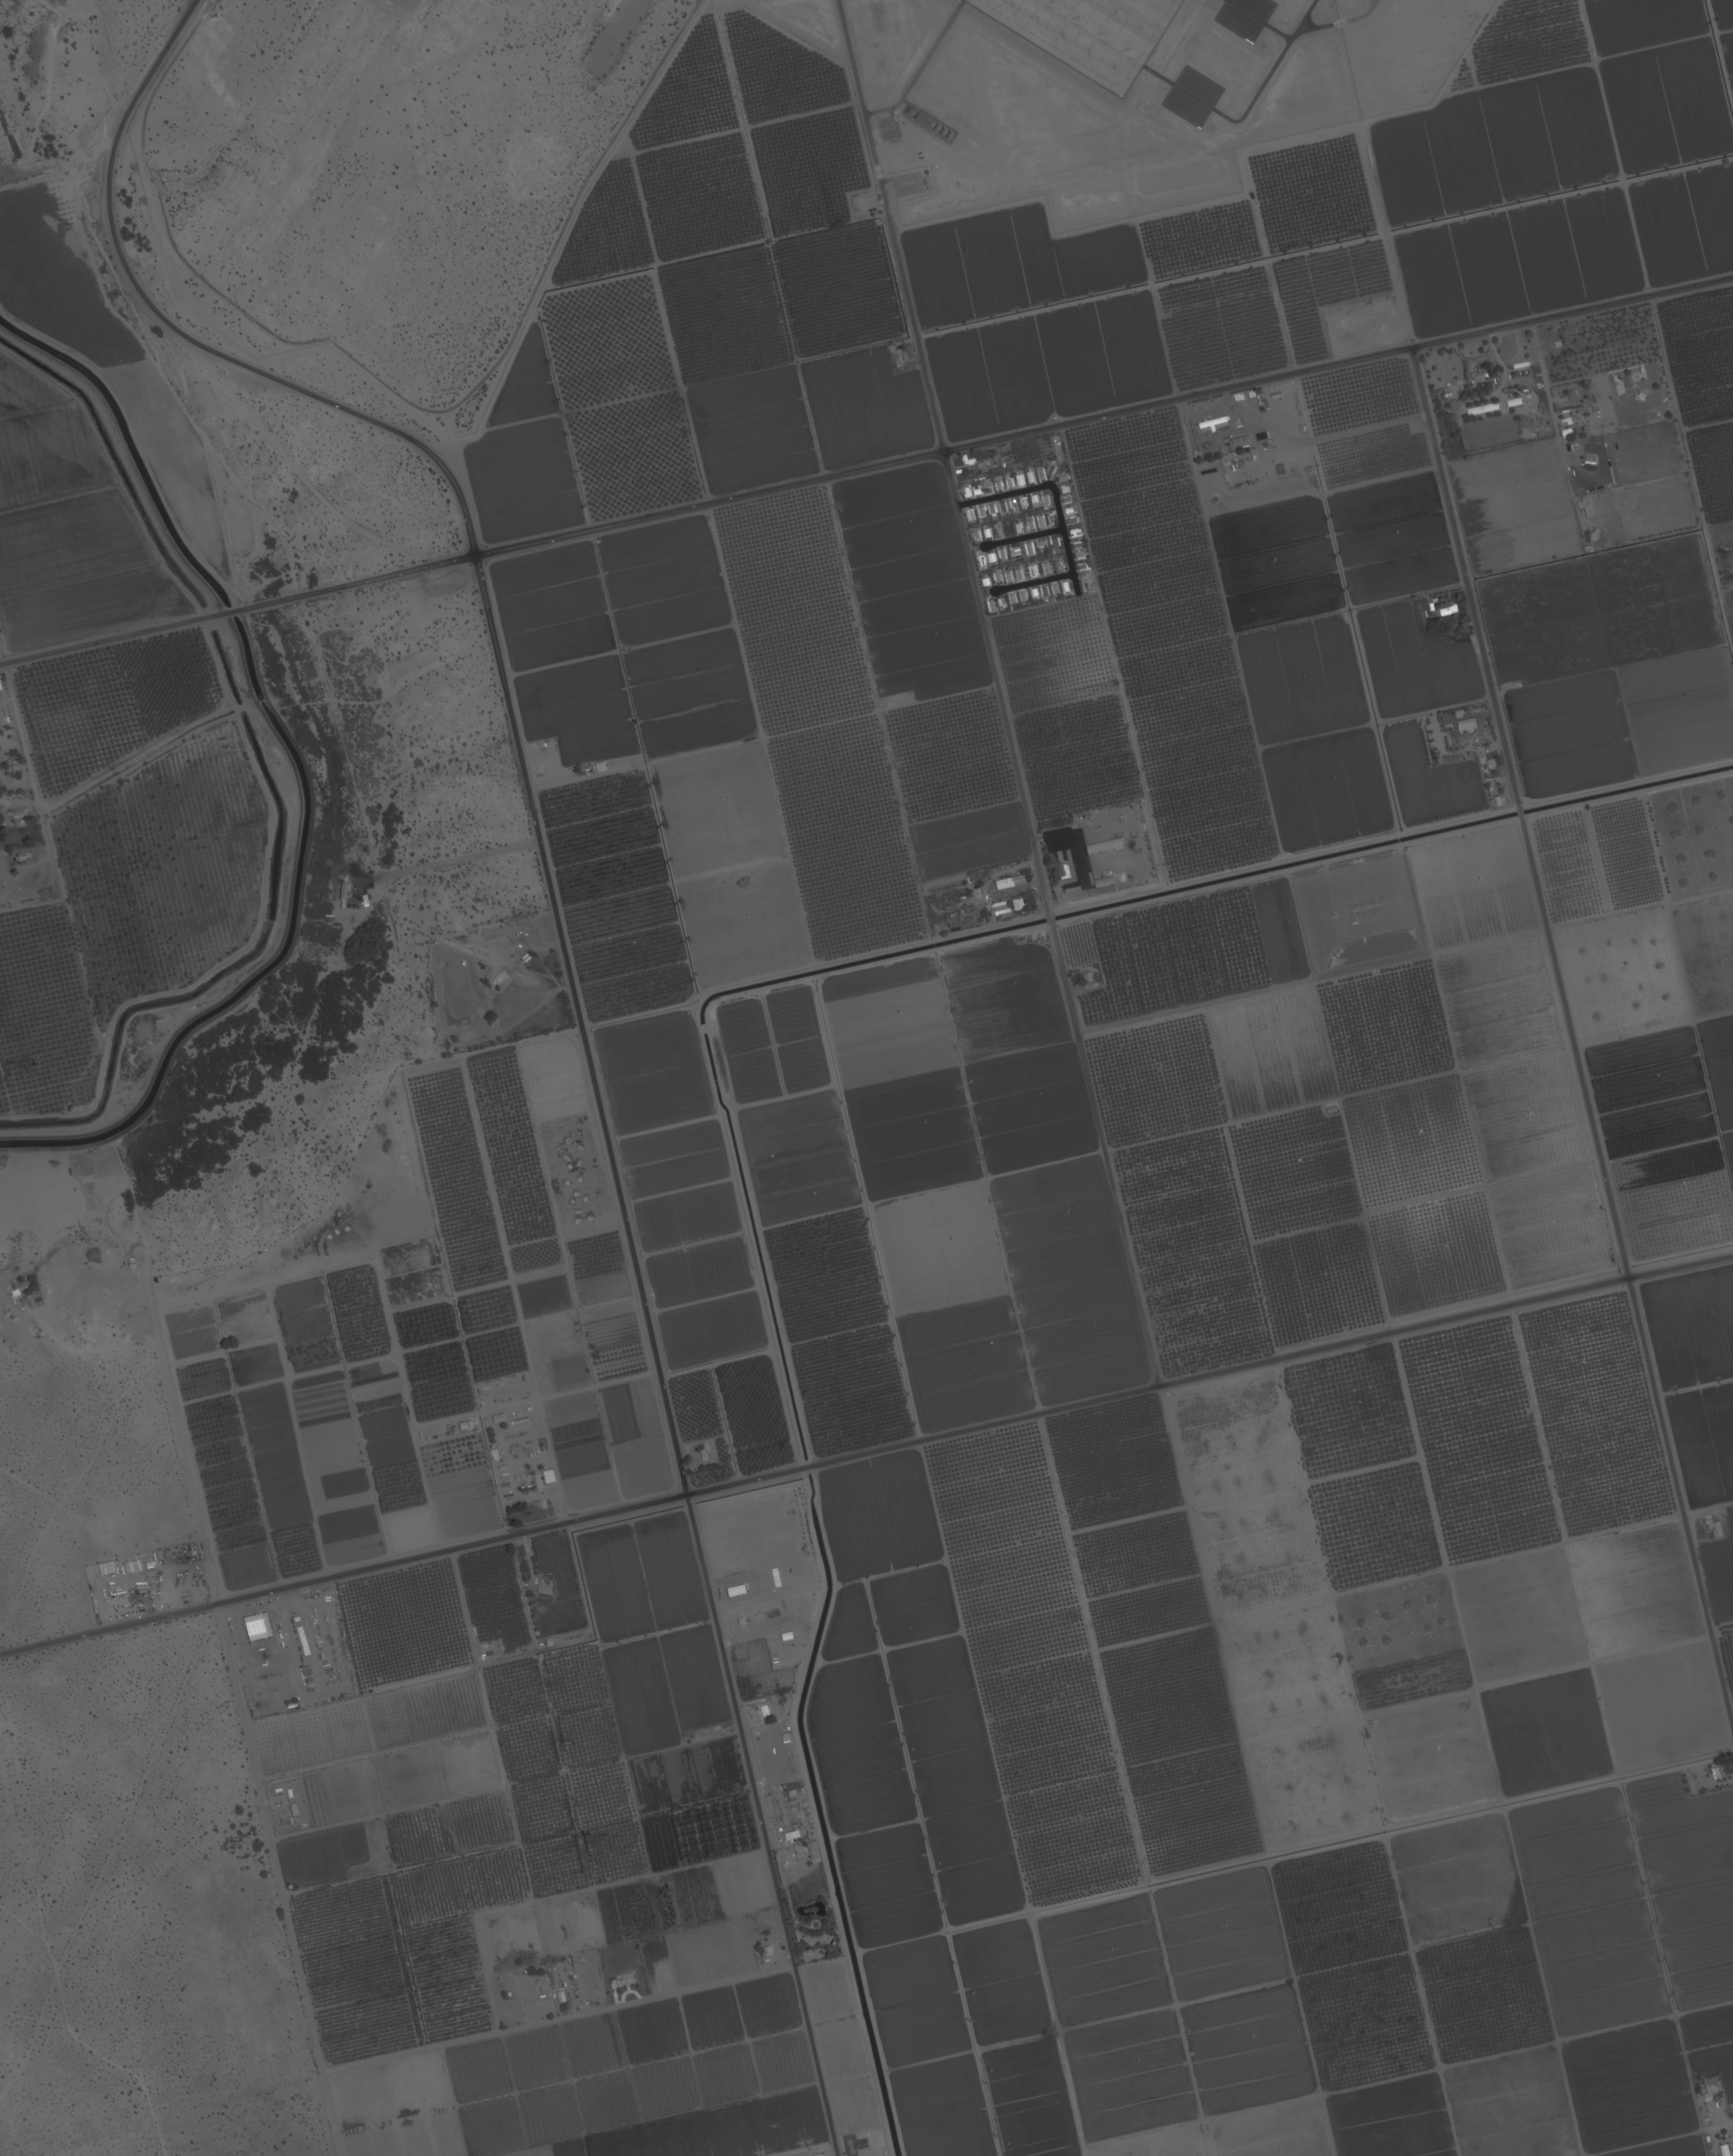bridge: (1040, 909, 1061, 929), (1512, 805, 1530, 822)
